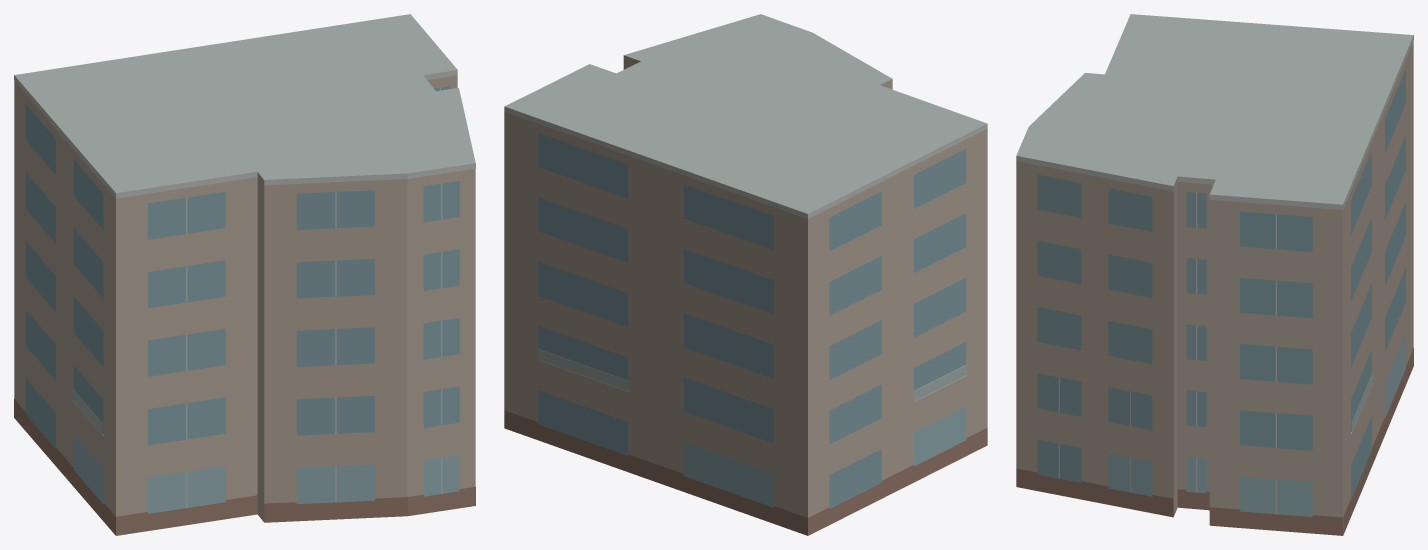
The model's file is survey-upis-32714801.glb.
The picture shows the model from 3 angles, left to right: view 1: azimuth 30°, elevation 25°; view 2: azimuth 150°, elevation 25°; view 3: azimuth 270°, elevation 25°; orthographic projection. The views are drawn at different scales.
Visible parts, largest first — view 1: survey-upis-32714801.tmp; view 2: survey-upis-32714801.tmp; view 3: survey-upis-32714801.tmp.
Part boxes in pixels (x1,y1,x2,y2): survey-upis-32714801.tmp: (14,14,475,535); survey-upis-32714801.tmp: (504,14,987,535); survey-upis-32714801.tmp: (1016,14,1413,535).
Size of the model in its own units: 18.85 by 15.25 by 16.6.
